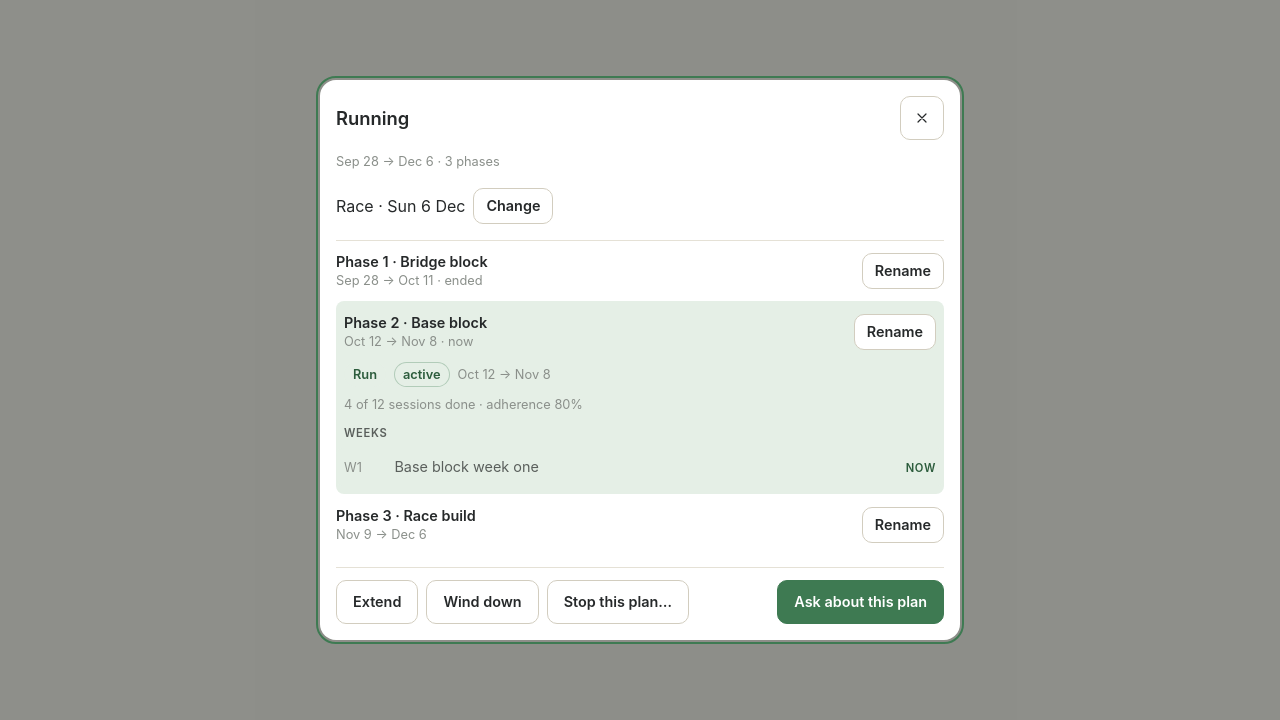
Test: a line's sheet lists its phases › an ended phase opens to its own detail
This screenshot has width=1280, height=720.
Step 1. Click the button "Phase 1 · Bridge block Sep 28 → Oct 11 · ended" → (359, 261), box [336,249,854,293]
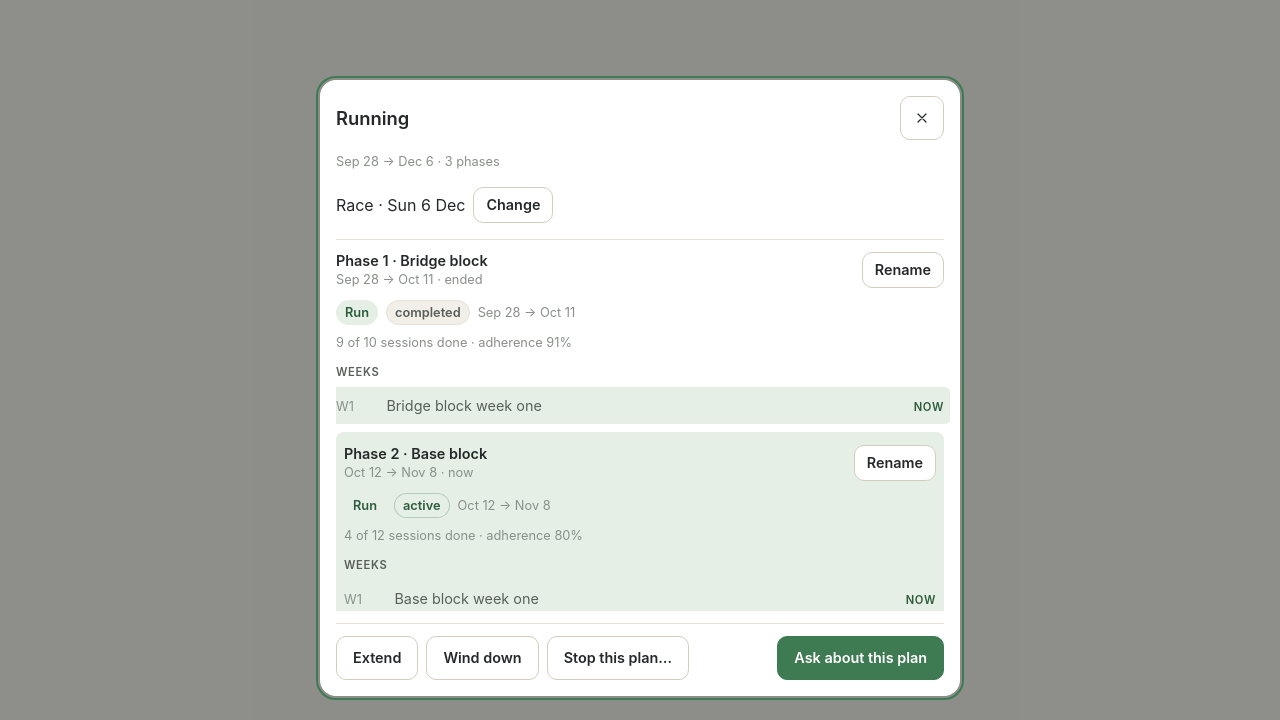
Result: the button "Phase 1 · Bridge block Sep 28 → Oct 11 · ended" is expanded at [336,248,854,292]
Result: the list item with id "line-phase-r1" shows "9 of 10 sessions done · adherence 91%" at [336,239,944,432]
